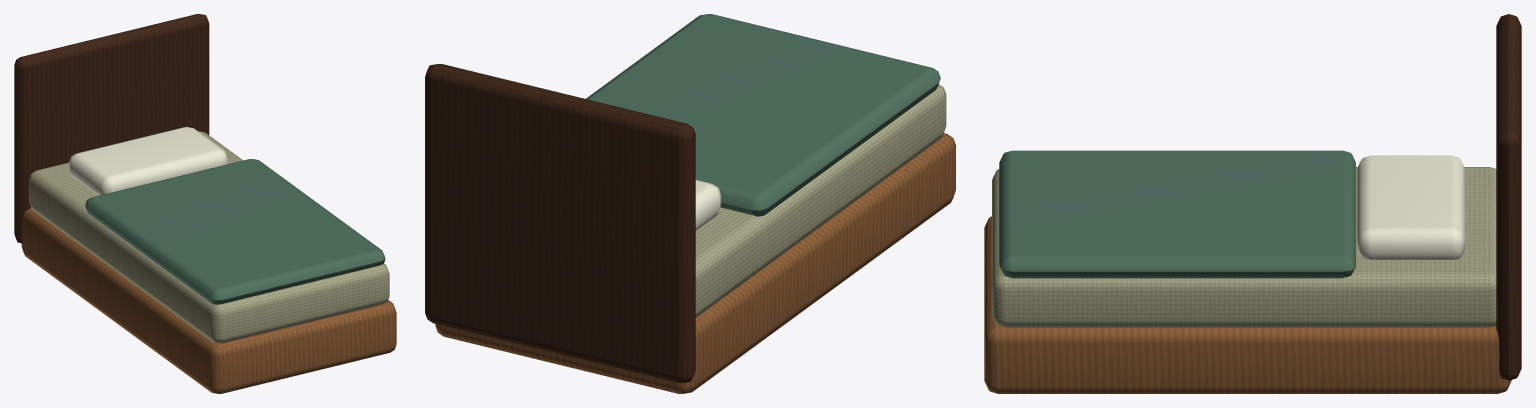
The model's file is bed.glb.
3 renders of one model, left to right at view 1: azimuth 30°, elevation 25°; view 2: azimuth 150°, elevation 25°; view 3: azimuth 270°, elevation 25°, orthographic. The views are drawn at different scales.
Parts seen in each view (by area): view 1: V2_bed_sage.005, V2_bed_walnut.005, V2_bed_oak.005, V2_bed_cloth.005, V2_bed_white.005; view 2: V2_bed_walnut.005, V2_bed_sage.005, V2_bed_oak.005, V2_bed_cloth.005, V2_bed_white.005; view 3: V2_bed_sage.005, V2_bed_oak.005, V2_bed_cloth.005, V2_bed_white.005, V2_bed_walnut.005.
Boxes of the visible parts, bbox=[...] form: V2_bed_sage.005: bbox=[85, 159, 385, 304]; V2_bed_walnut.005: bbox=[14, 14, 209, 243]; V2_bed_oak.005: bbox=[21, 208, 396, 393]; V2_bed_cloth.005: bbox=[29, 131, 389, 343]; V2_bed_white.005: bbox=[69, 127, 227, 195]; V2_bed_walnut.005: bbox=[425, 64, 695, 382]; V2_bed_sage.005: bbox=[586, 14, 940, 216]; V2_bed_oak.005: bbox=[435, 133, 955, 393]; V2_bed_cloth.005: bbox=[695, 84, 946, 317]; V2_bed_white.005: bbox=[695, 180, 721, 230]; V2_bed_sage.005: bbox=[999, 150, 1355, 278]; V2_bed_oak.005: bbox=[984, 216, 1511, 393]; V2_bed_cloth.005: bbox=[992, 167, 1496, 327]; V2_bed_white.005: bbox=[1357, 155, 1464, 259]; V2_bed_walnut.005: bbox=[1496, 14, 1521, 380].
Size of the model in its own units: 1.19 by 1.17 by 2.14.
5 materials, 3 textured.
